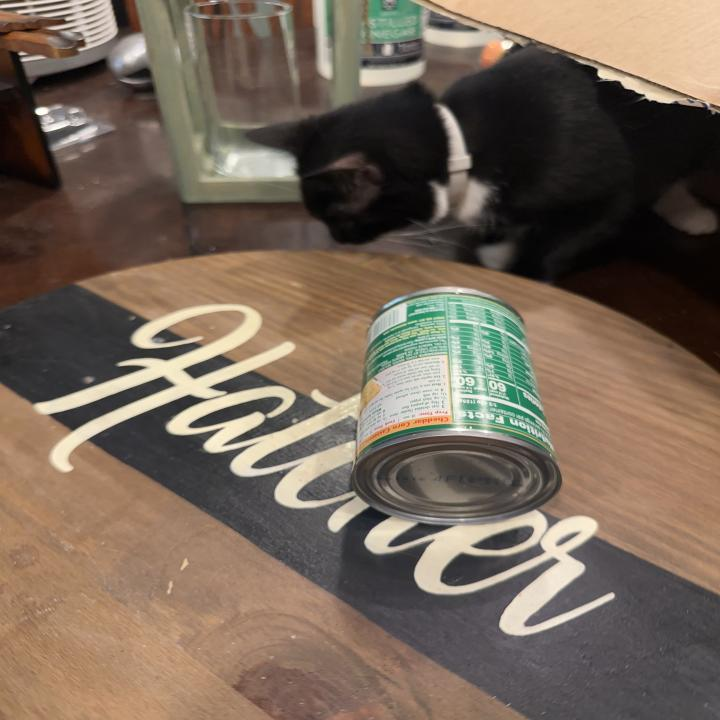Canned-Corn: (356, 281, 579, 526)
